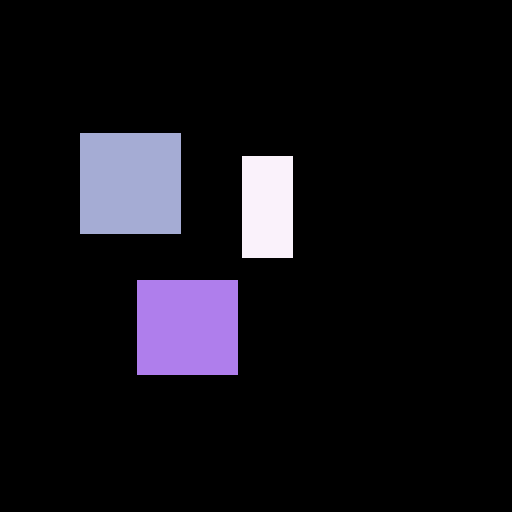rectangle: (242, 156, 292, 257)
square: (80, 133, 180, 233), (137, 280, 237, 374)
